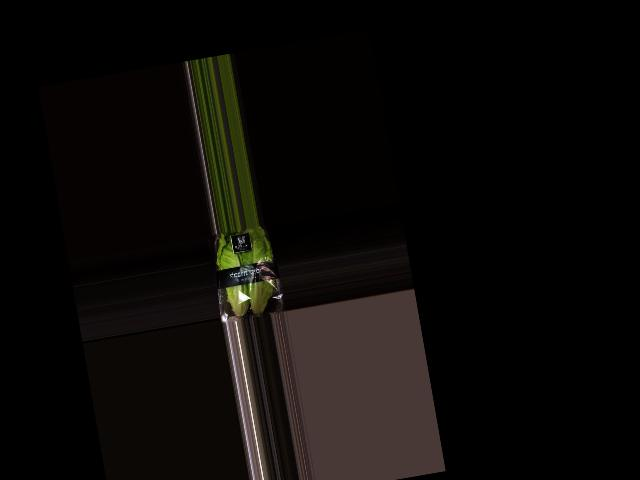lettuce: (206, 225, 281, 323)
